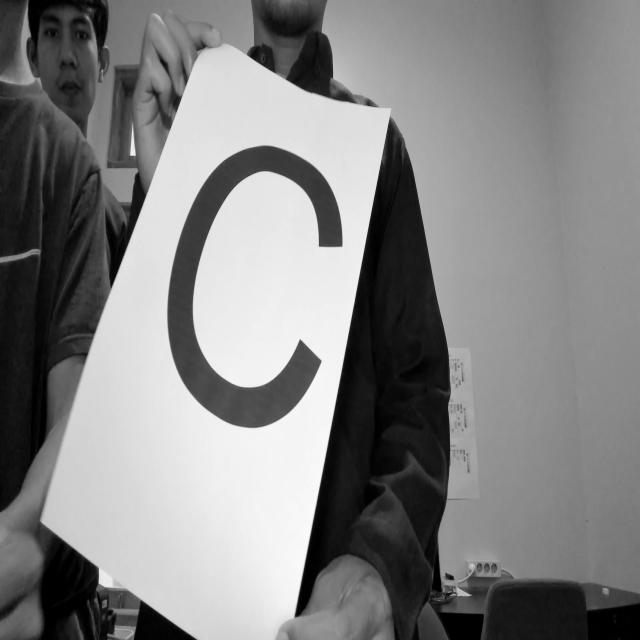c: (161, 98, 354, 514)
